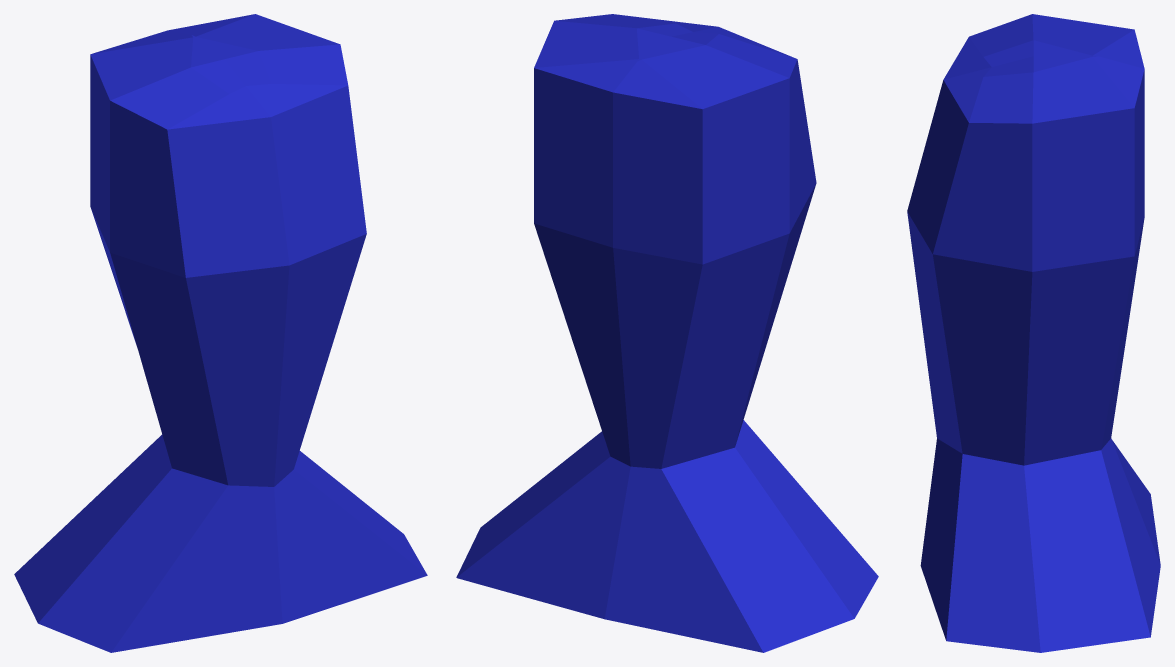
The model's file is body.obj.
3 renders of one model, left to right at view 1: azimuth 30°, elevation 25°; view 2: azimuth 150°, elevation 25°; view 3: azimuth 270°, elevation 25°, orthographic. The views are drawn at different scales.
Parts seen in each view (by area): view 1: body; view 2: body; view 3: body.
Boxes of the visible parts, box(x1,y1,x2,y2) form: body: box(14, 14, 427, 652); body: box(456, 14, 878, 652); body: box(907, 14, 1160, 652).
Bounding box in the file's own units: 0.6049 × 0.8245 × 0.372.
